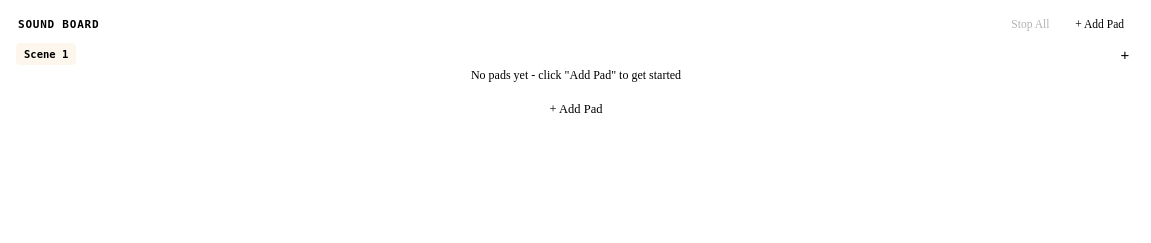
Test: SoundBoard - pad and playlist management › adds a pad to the active scene
The image size is (1151, 243).
What coordinates should you click on to do the following:
click the button titled "Add a new sound pad" in the row of "Sound Board"
I would click on:
 (1100, 24)
Its box is [1065,14,1134,34].
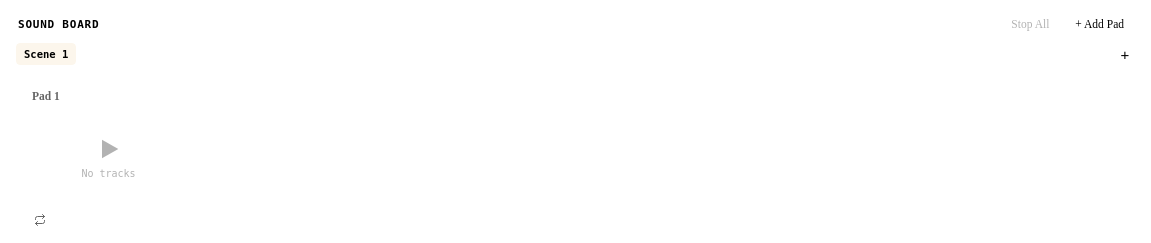
Expected: the field showing "Pad 1" is shown, [28,88,175,105]
